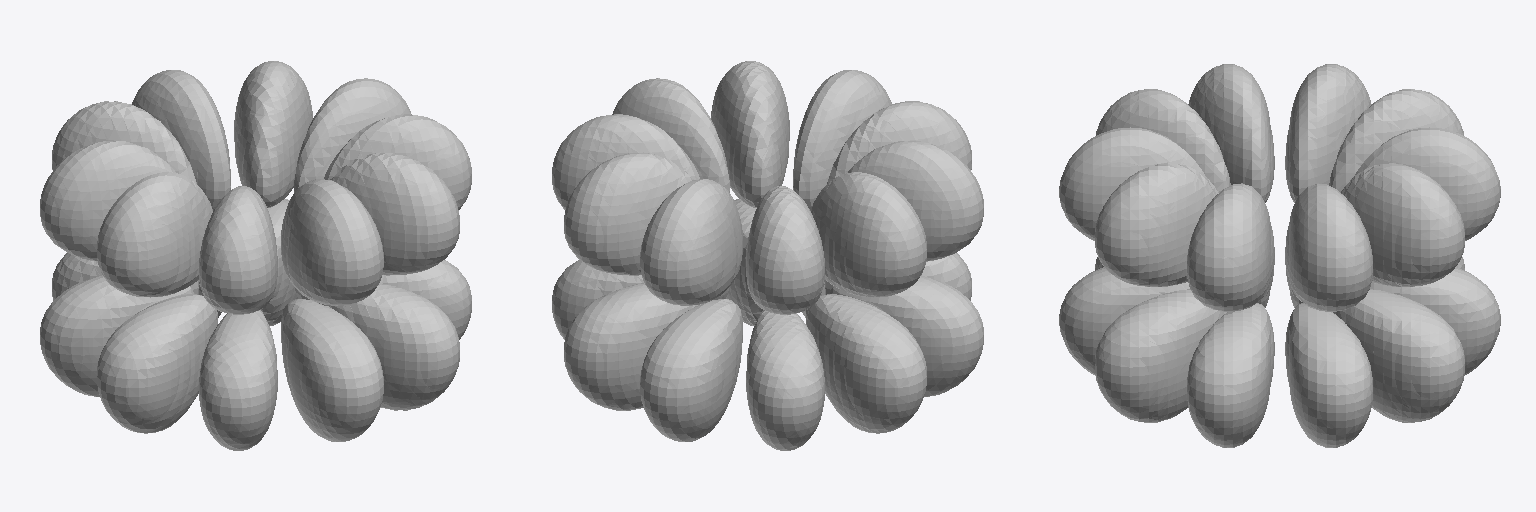
File: orb_n=7_ l=6 _m=-5.obj
3 views of the same model, side by side, from view 1: azimuth 30°, elevation 25°; view 2: azimuth 150°, elevation 25°; view 3: azimuth 270°, elevation 25° (orthographic).
Visible parts, largest first — view 1: orb_n=7__l=6__m=-5; view 2: orb_n=7__l=6__m=-5; view 3: orb_n=7__l=6__m=-5.
Boxes of the visible parts, <box> form: orb_n=7__l=6__m=-5: <box>40,61,471,450</box>; orb_n=7__l=6__m=-5: <box>552,61,983,450</box>; orb_n=7__l=6__m=-5: <box>1059,64,1500,447</box>.
Bounding box in the file's own units: 151 × 99.18 × 157.